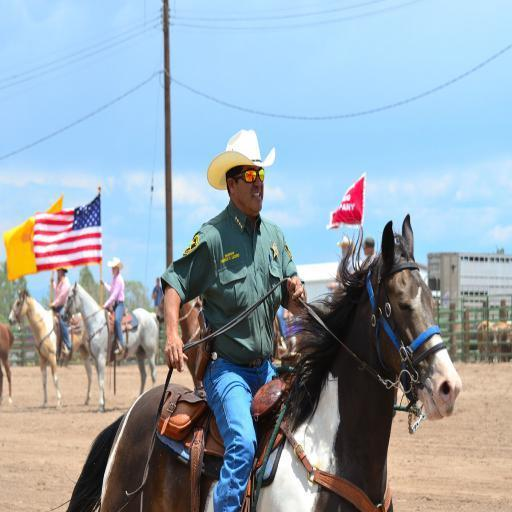horse: (47, 212, 462, 512), (60, 280, 161, 414), (6, 286, 96, 412), (154, 293, 201, 390), (0, 323, 15, 409)
